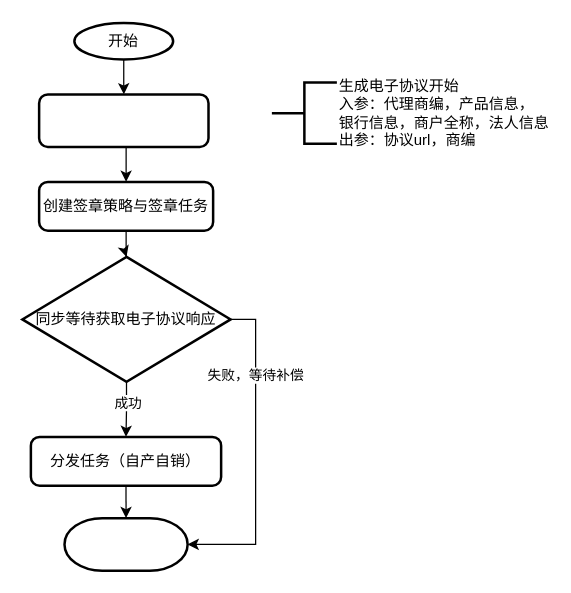
The diagram is 571 pixels wide and 593 high, and some of its shapes have lost their labels. The centre of each missing label's shape, as x and y in pixels:
"异步请求生成电子协议" belongs at (123,120).
"结束" belongs at (125,543).
